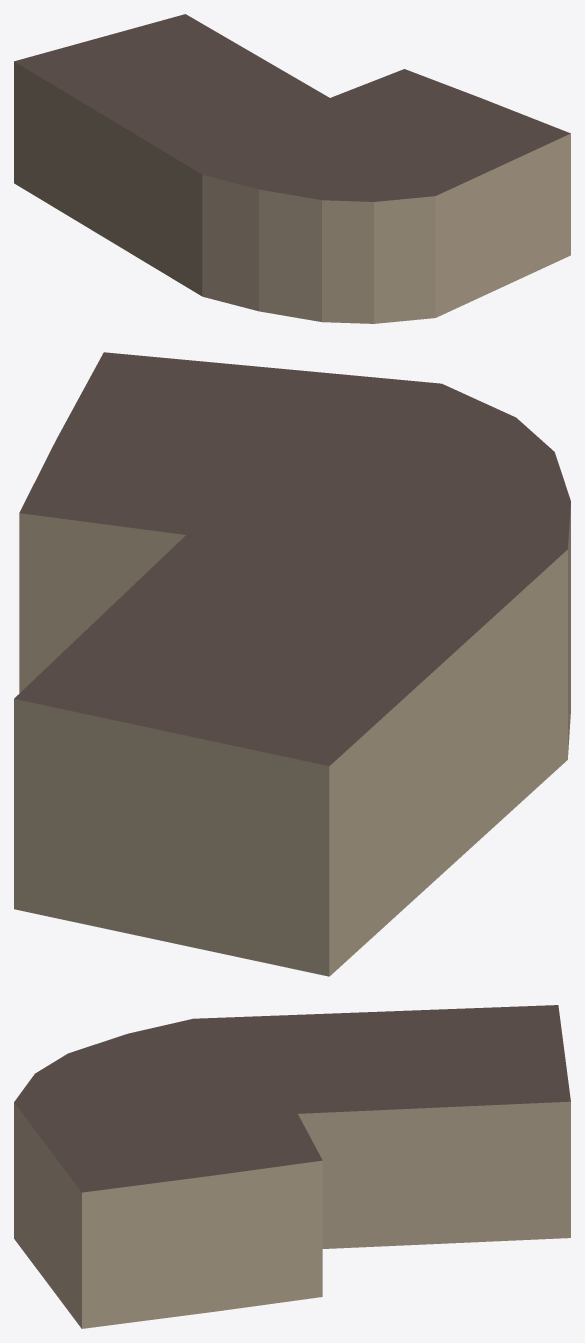
3 views of the same model, one above another, from view 1: azimuth 30°, elevation 25°; view 2: azimuth 150°, elevation 25°; view 3: azimuth 270°, elevation 25° (orthographic). The views are drawn at different scales.
Visible parts, largest first — view 1: HP-w1198867495; view 2: HP-w1198867495; view 3: HP-w1198867495.
Part boxes in pixels (box(x1,y1,x2,y2)): HP-w1198867495: box(14, 14, 570, 323); HP-w1198867495: box(14, 352, 570, 976); HP-w1198867495: box(14, 1005, 570, 1328).
Size of the model in its own units: 26.56 by 9 by 33.32.
